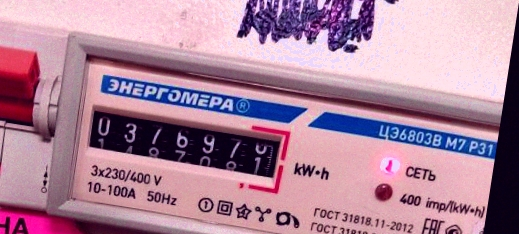0: (95, 112, 112, 136)
1: (249, 153, 264, 175)
3: (121, 119, 139, 143)
6: (173, 123, 191, 148)
7: (146, 120, 165, 145), (226, 134, 243, 159)
9: (199, 129, 217, 154)
screen: (74, 93, 294, 197)
